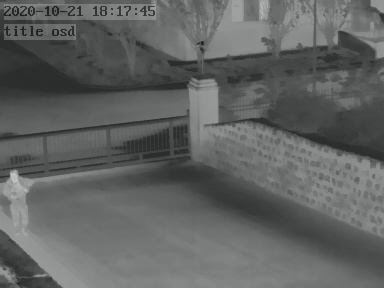person: (1, 169, 32, 236)
